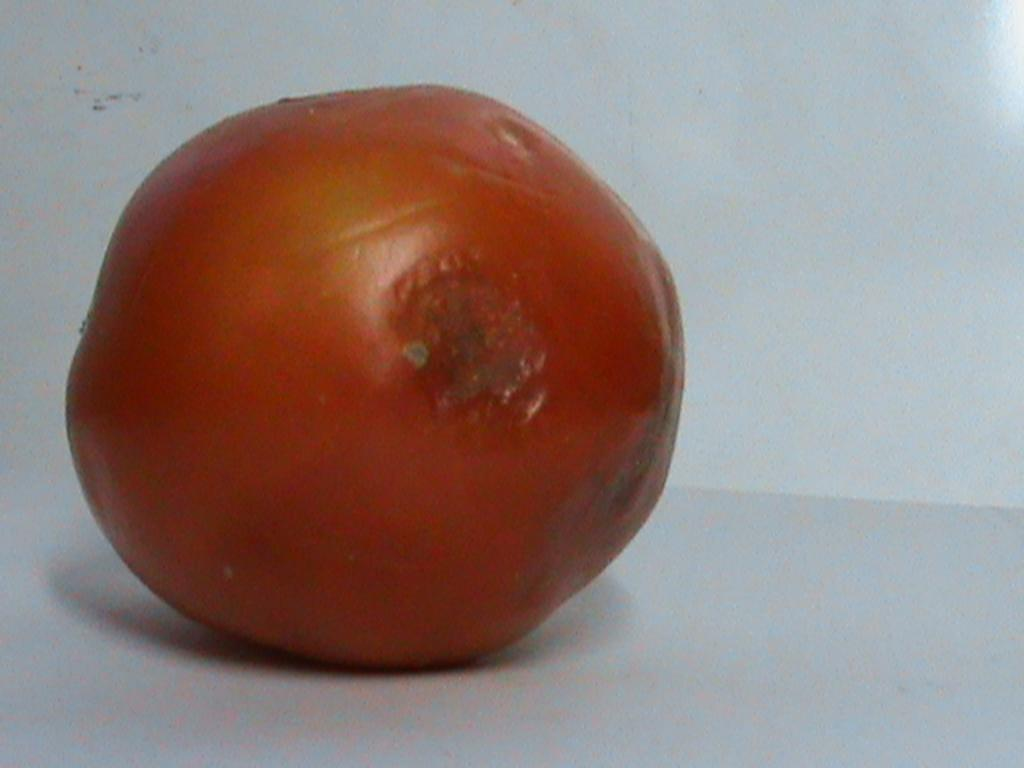bruise_discoloration: (518, 256, 683, 602), (381, 254, 547, 428), (495, 118, 532, 148)
tomato: (69, 86, 682, 666)
